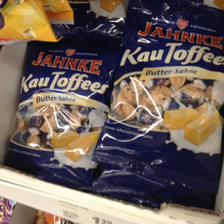candy: (11, 24, 119, 178), (125, 8, 221, 181)
